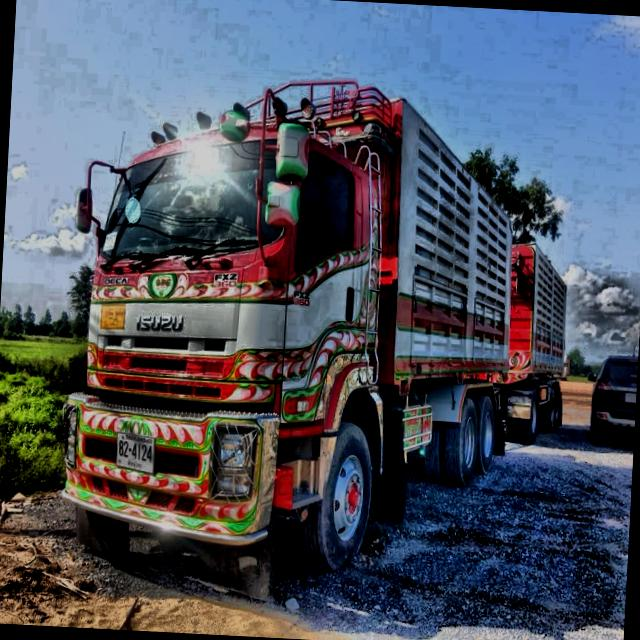trailer: (24, 52, 586, 638)
